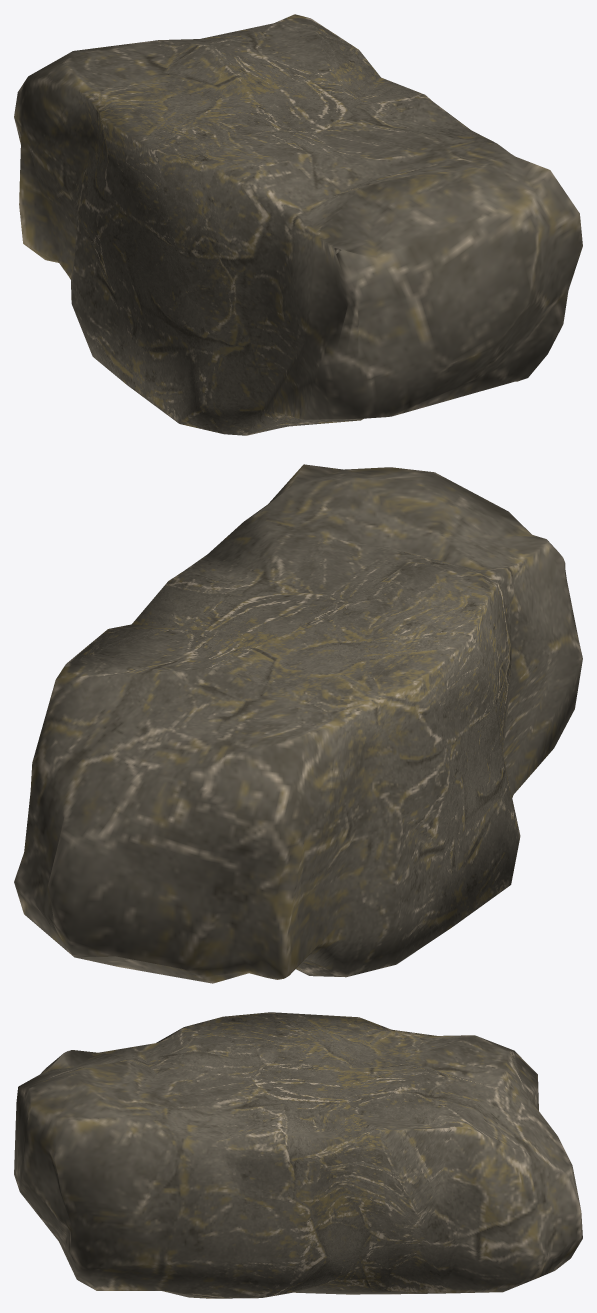
Rendered from ClusterRockB.gltf.
The picture shows the model from 3 angles, top to bottom: view 1: azimuth 30°, elevation 25°; view 2: azimuth 150°, elevation 25°; view 3: azimuth 270°, elevation 25°; orthographic projection. The views are drawn at different scales.
Parts seen in each view (by area): view 1: rock-cluster-low-02_rock-cluster-dark_0; view 2: rock-cluster-low-02_rock-cluster-dark_0; view 3: rock-cluster-low-02_rock-cluster-dark_0.
Part boxes in pixels (left/top/right/bottom): rock-cluster-low-02_rock-cluster-dark_0: left=14, top=14, right=582, bottom=435; rock-cluster-low-02_rock-cluster-dark_0: left=14, top=464, right=582, bottom=983; rock-cluster-low-02_rock-cluster-dark_0: left=14, top=1012, right=582, bottom=1298.
Bounding box in the file's own units: 40.84 × 35.11 × 77.16.
Materials: 1 (1 with a texture image).
